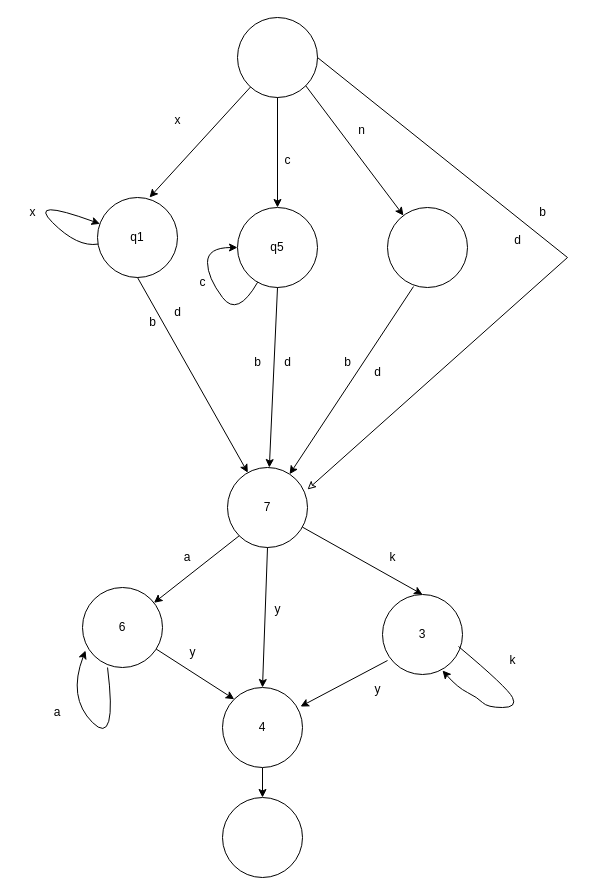
Some shapes in this 593 by 895 pixel diagram are drawn without their labels. Here are the shapes that lost their labels. From the top down, the centre of each, then its label:
(x=277, y=57): q0
(x=427, y=247): q2
(x=262, y=837): Стоп
